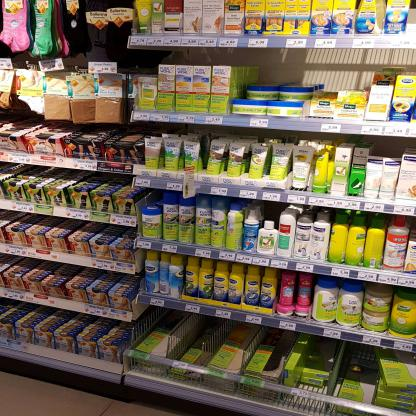Void: (254, 51, 372, 88)
